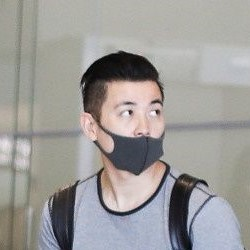mask: (83, 121, 171, 176)
